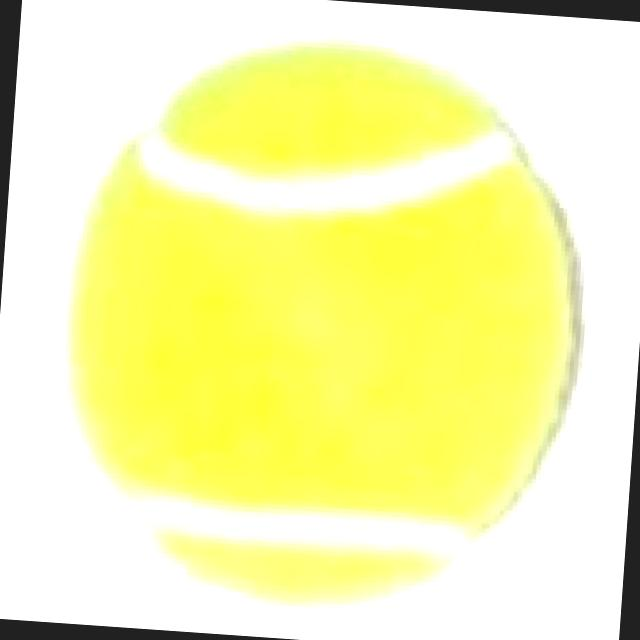Tennis Ball: (61, 37, 587, 609)
